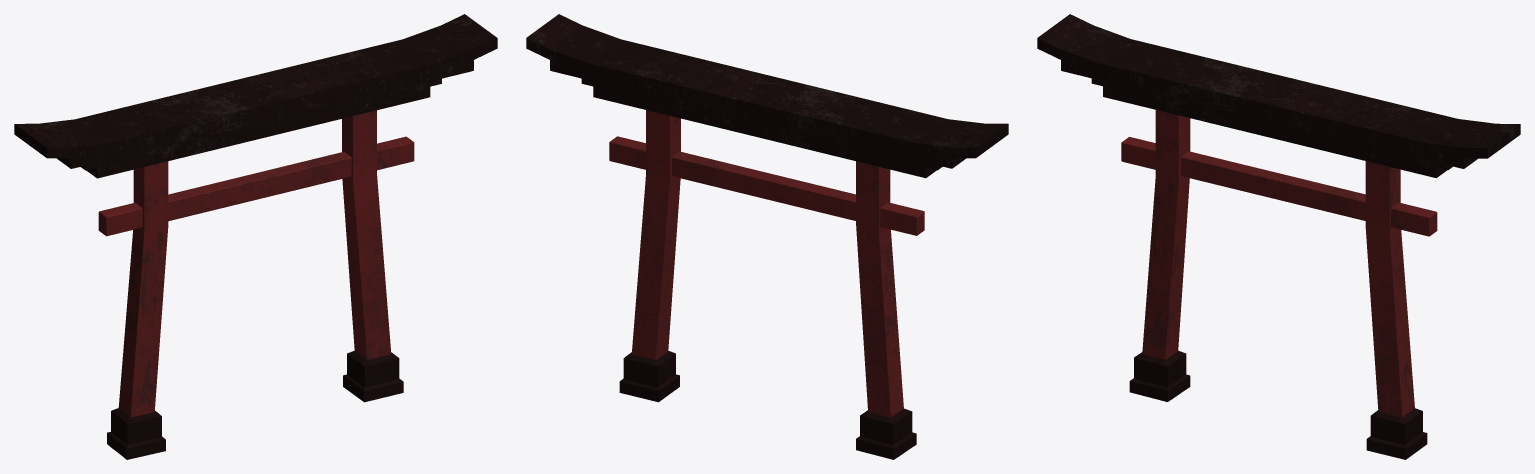
File: Torii.fbx
3 views of the same model, side by side, from view 1: azimuth 30°, elevation 25°; view 2: azimuth 150°, elevation 25°; view 3: azimuth 330°, elevation 25° (orthographic).
Visible parts, largest first — view 1: gate3; view 2: gate3; view 3: gate3.
Boxes of the visible parts, x1=… form: gate3: x1=14, y1=14, x2=497, y2=459; gate3: x1=526, y1=14, x2=1008, y2=459; gate3: x1=1037, y1=14, x2=1520, y2=459.
Bounding box in the file's own units: 3160 × 2265 × 398.
3 materials, 3 textured.
